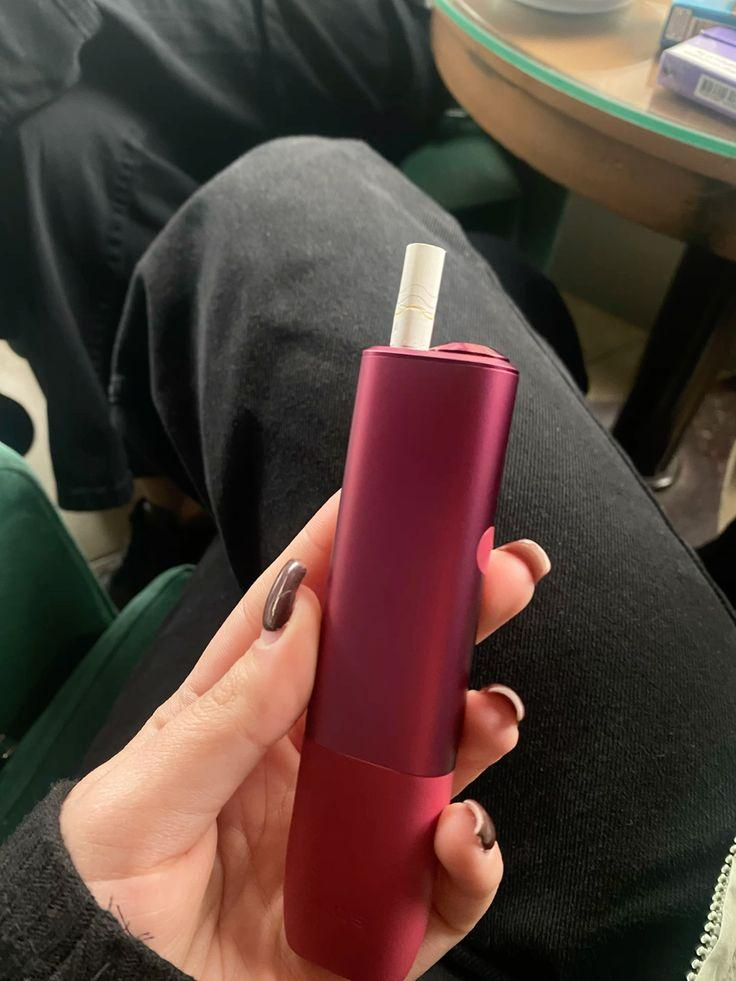iqos: (286, 243, 517, 980)
